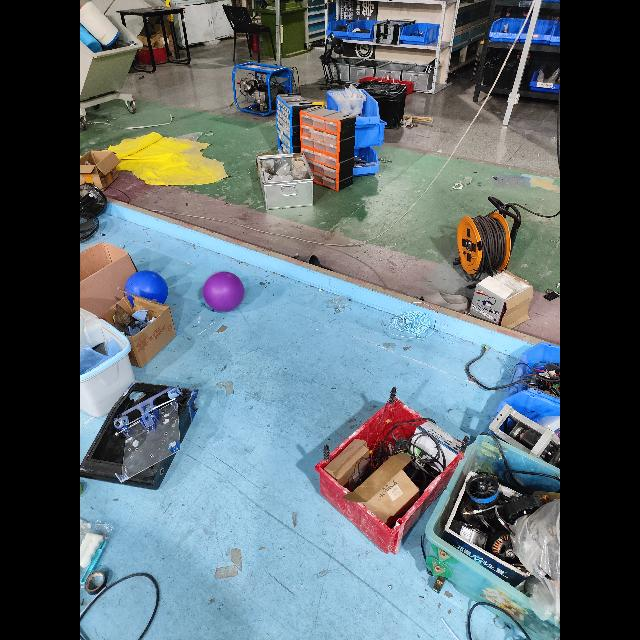B: (125, 270, 169, 312)
P: (203, 272, 244, 312)
